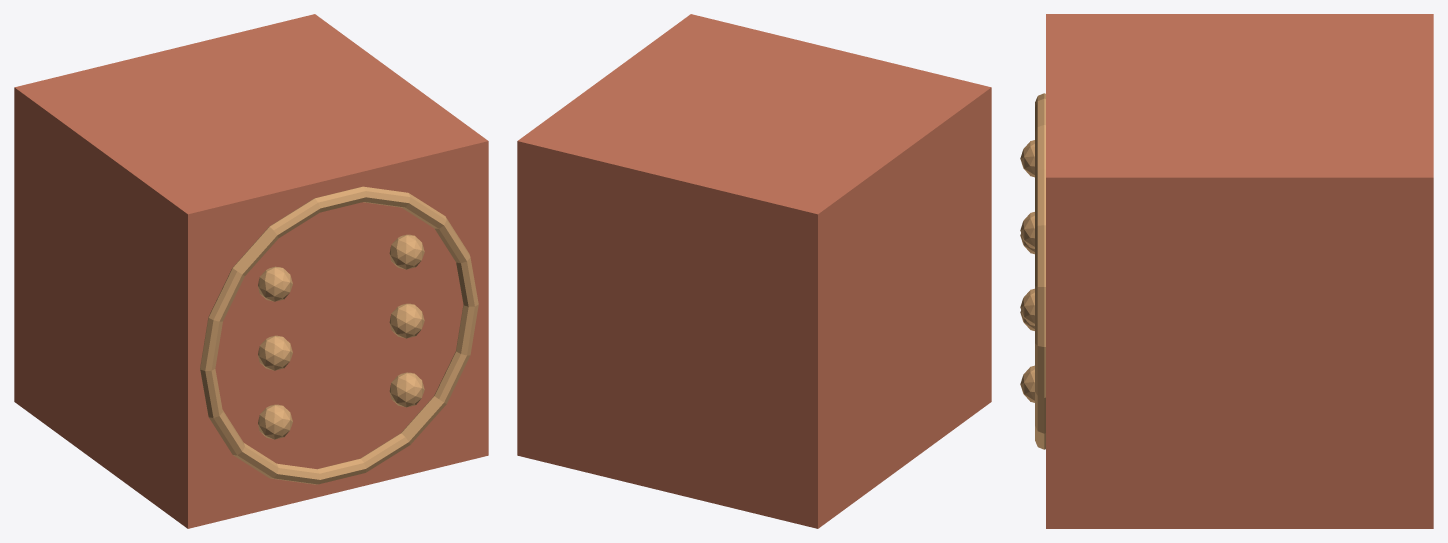
File: bombe.glb
The picture shows the model from 3 angles, left to right: view 1: azimuth 30°, elevation 25°; view 2: azimuth 150°, elevation 25°; view 3: azimuth 270°, elevation 25°; orthographic projection. The views are drawn at different scales.
Visible parts, largest first — view 1: world; view 2: world; view 3: world.
Boxes of the visible parts, x1,y1,x2,y2 form: world: (14, 14, 488, 528); world: (517, 14, 991, 528); world: (1020, 14, 1433, 528).
Size of the model in its own units: 1.05 by 1.05 by 1.12.
